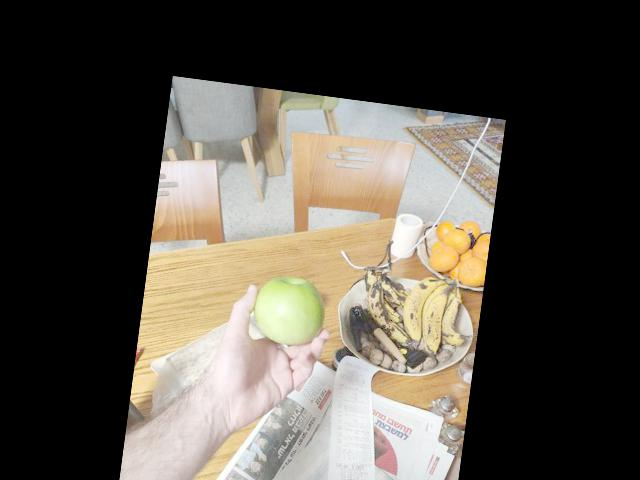apple: (244, 263, 330, 354)
